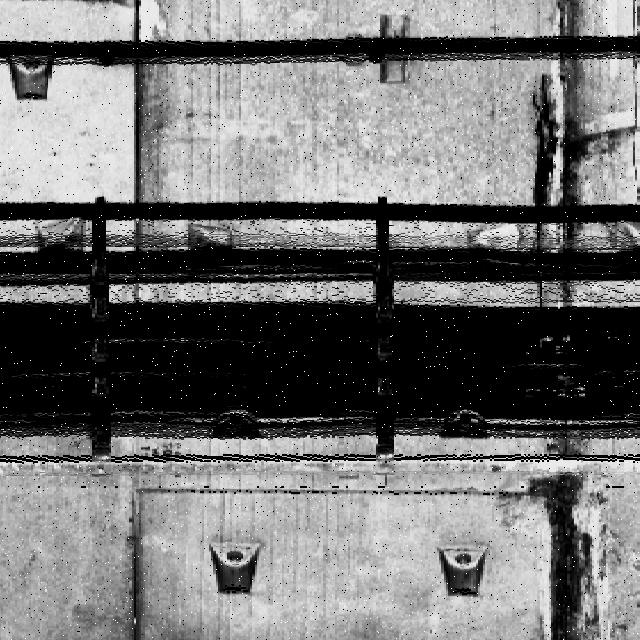leakage: (518, 1, 597, 282), (528, 438, 610, 640)
